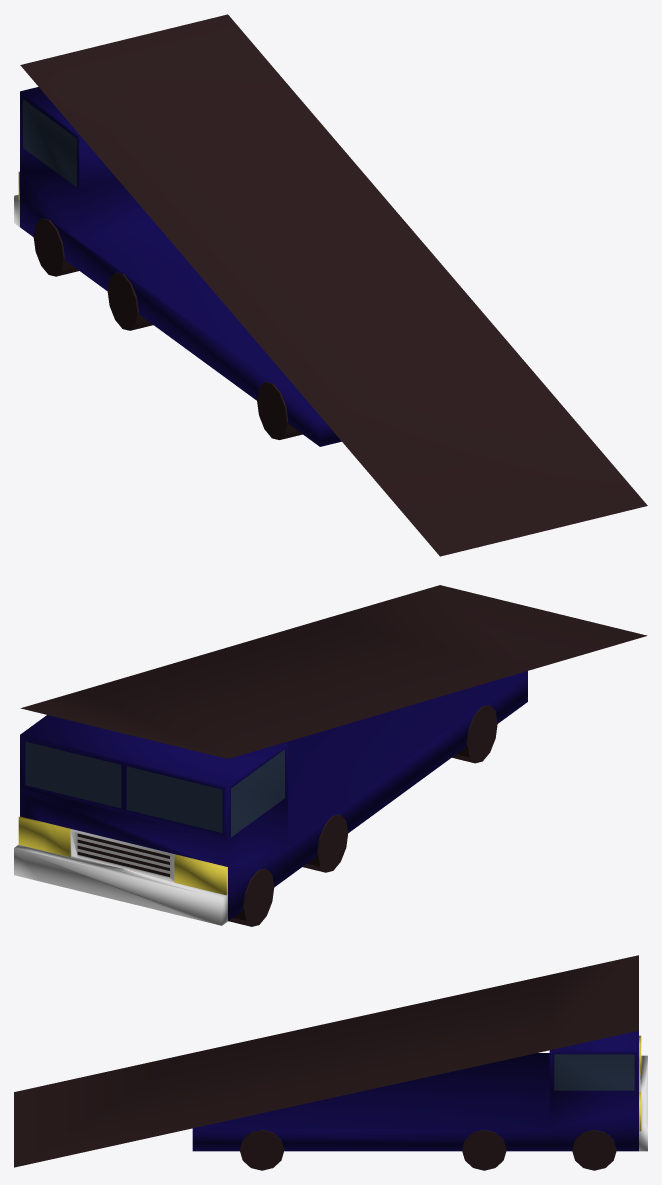
The model's file is camion.glb.
The picture shows the model from 3 angles, top to bottom: view 1: azimuth 30°, elevation 25°; view 2: azimuth 150°, elevation 25°; view 3: azimuth 270°, elevation 25°; orthographic projection. The views are drawn at different scales.
Visible parts, largest first — view 1: camion, wheels; view 2: camion, wheels; view 3: camion, wheels.
Boxes of the visible parts, x1=… form: camion: x1=14, y1=14, x2=647, y2=556; wheels: x1=33, y1=218, x2=302, y2=439; camion: x1=14, y1=585, x2=647, y2=925; wheels: x1=228, y1=705, x2=497, y2=926; camion: x1=14, y1=955, x2=647, y2=1167; wheels: x1=239, y1=1129, x2=616, y2=1170.
Size of the model in its own units: 4.06 by 3.45 by 14.2.
